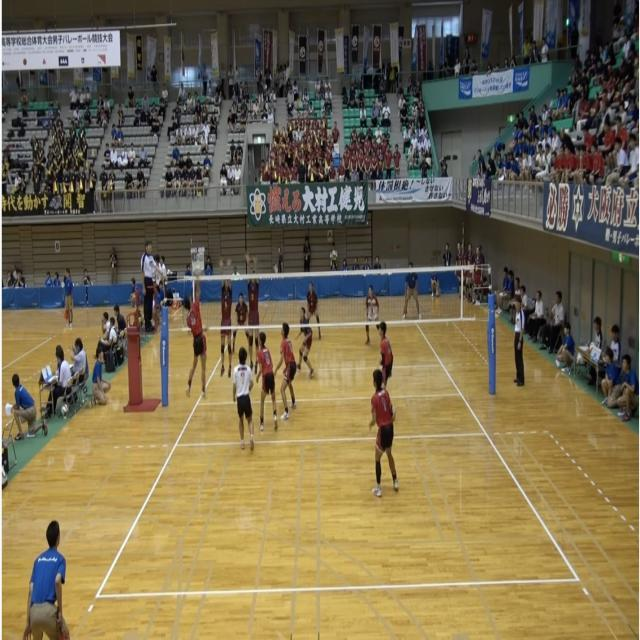spike: (181, 265, 212, 404)
